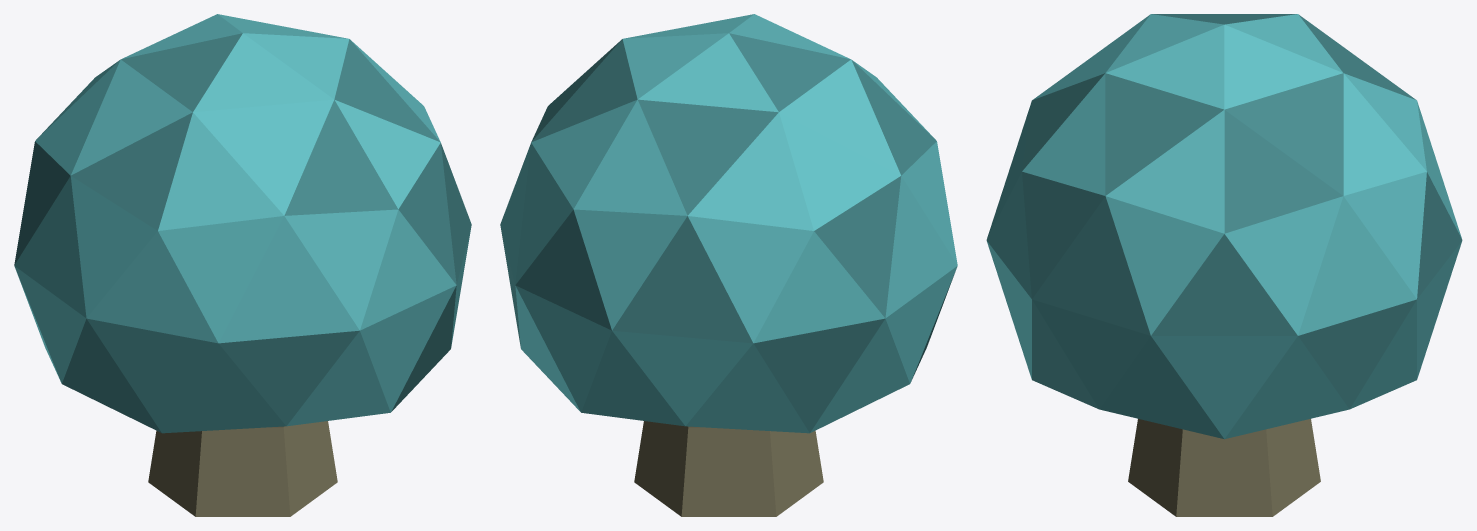
File: Mushroom_1_Cyan.fbx
3 views of the same model, side by side, from view 1: azimuth 30°, elevation 25°; view 2: azimuth 150°, elevation 25°; view 3: azimuth 270°, elevation 25° (orthographic).
Parts seen in each view (by area): view 1: Mushroom_1_Cyan; view 2: Mushroom_1_Cyan; view 3: Mushroom_1_Cyan.
Part boxes in pixels (x1,y1,x2,y2): Mushroom_1_Cyan: (14,14,471,516); Mushroom_1_Cyan: (500,14,957,516); Mushroom_1_Cyan: (986,14,1462,516).
Bounding box in the file's own units: 46.91 × 52.26 × 49.33.
